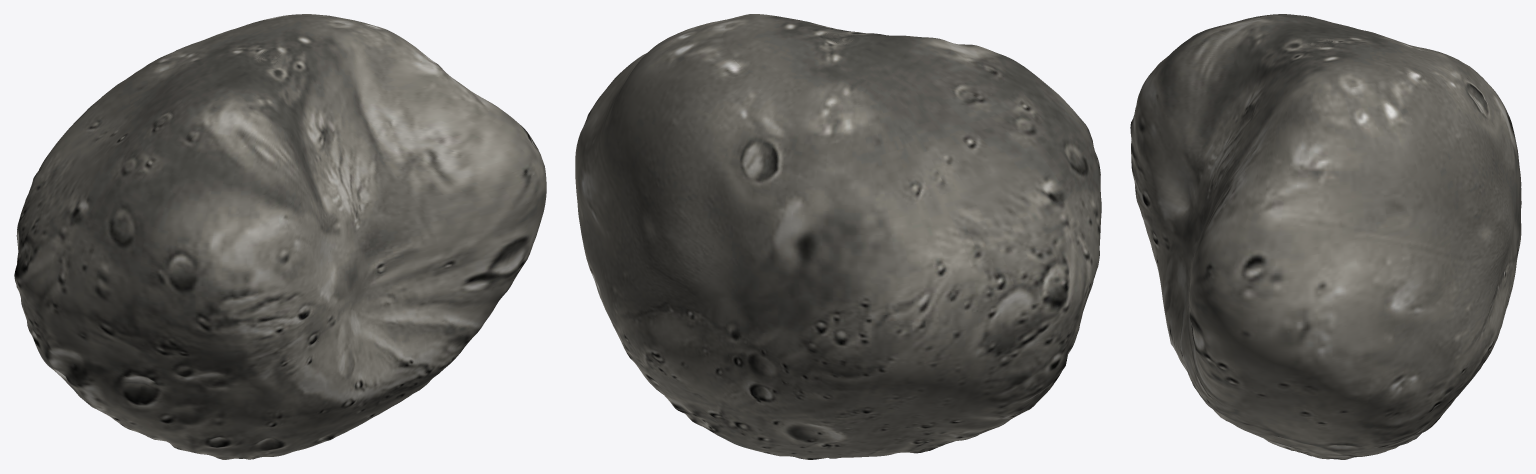
Rendered from deimos.glb.
The picture shows the model from 3 angles, left to right: view 1: azimuth 30°, elevation 25°; view 2: azimuth 150°, elevation 25°; view 3: azimuth 270°, elevation 25°; orthographic projection. The views are drawn at different scales.
Visible parts, largest first — view 1: deimos; view 2: deimos; view 3: deimos.
Boxes of the visible parts, x1,y1,x2,y2 form: deimos: (14, 14, 546, 459); deimos: (575, 14, 1101, 459); deimos: (1130, 14, 1521, 459).
Bounding box in the file's own units: 15.01 × 11.87 × 10.51.
1 material, 1 textured.
